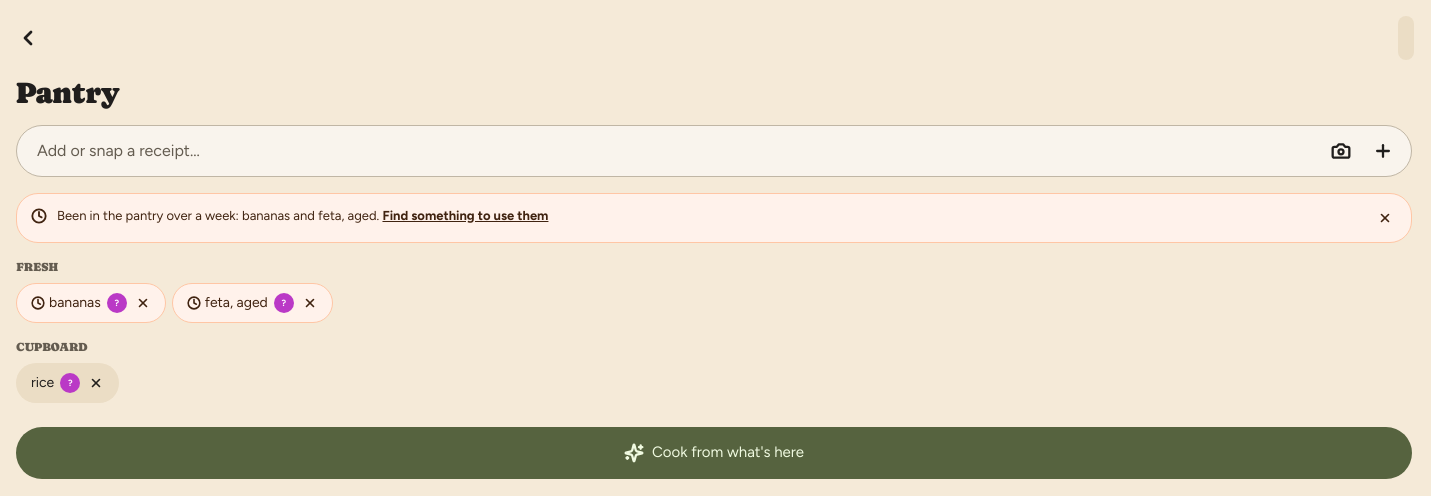
PantryPage (RL-220) › splits on a typed comma, keeps the fragment, announces and refocuses
The width and height of the screenshot is (1431, 496).
Type "eggs, Rice, mi" into the field named "Add things" at (679, 151), box [37,139,1321,163]
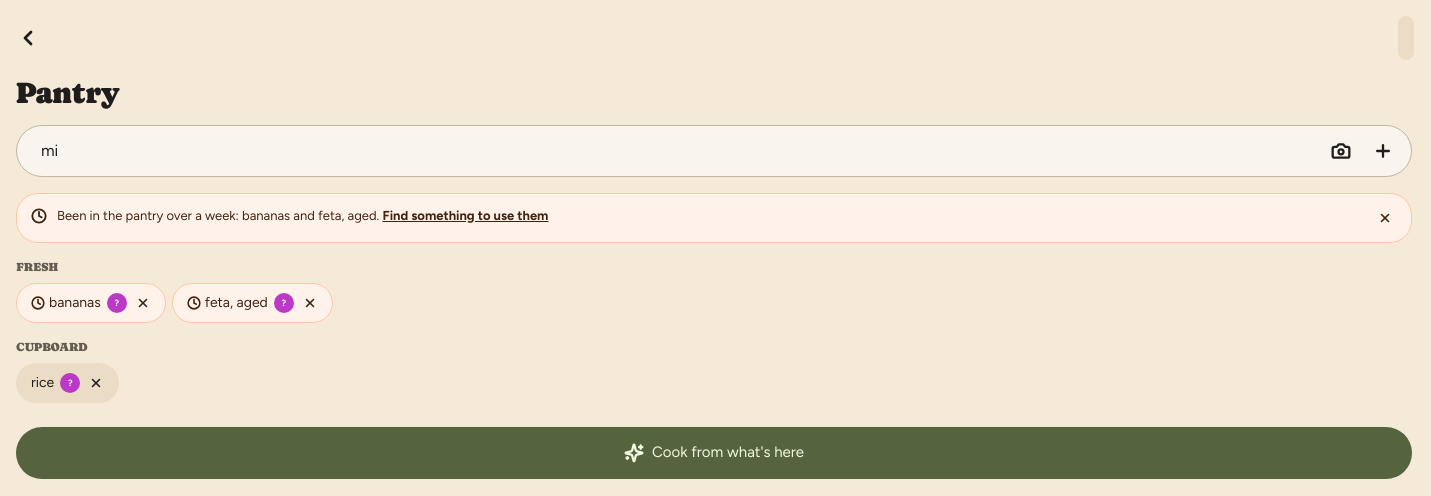
Expected: the field named "Add things" holds " mi", [37,139,1321,163]
